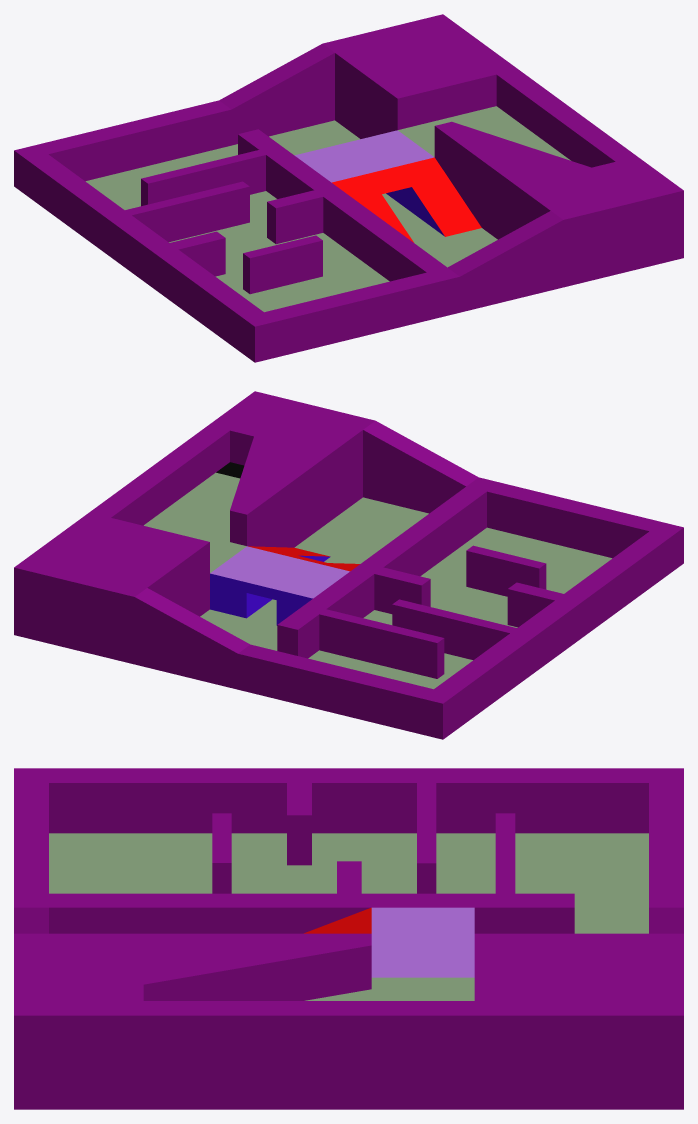
The picture shows the model from 3 angles, top to bottom: view 1: azimuth 30°, elevation 25°; view 2: azimuth 150°, elevation 25°; view 3: azimuth 270°, elevation 25°; orthographic projection. The views are drawn at different scales.
Parts seen in each view (by area): view 1: SketchUp (×7); view 2: SketchUp (×7); view 3: SketchUp (×6).
Part boxes in pixels (x1,y1,x2,y2): SketchUp (×7): (14, 14, 683, 362); SketchUp (×7): (14, 391, 683, 739); SketchUp (×6): (14, 768, 683, 1109).
Size of the model in its own units: 39.27 by 38.19 by 5.91.
